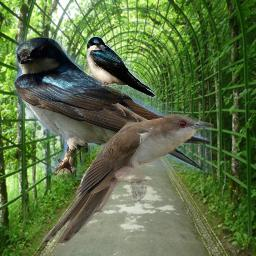Cuckoo: (42, 114, 214, 243)
Swallow: (14, 37, 212, 180), (86, 36, 156, 98)
